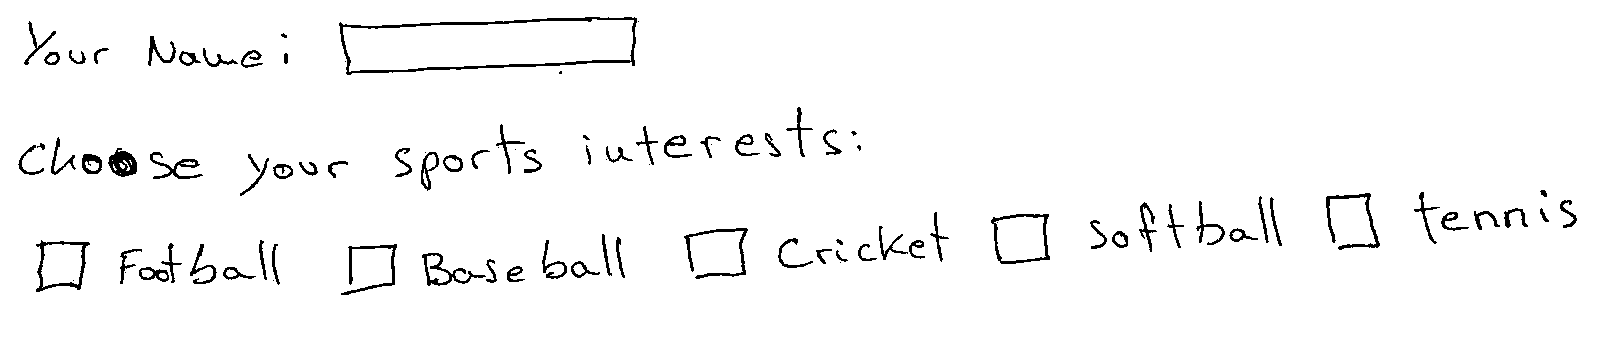Check Box: (988, 193, 1284, 265), (337, 230, 629, 297), (680, 212, 951, 281), (1321, 185, 1580, 253), (31, 232, 284, 299)
Textbox: (335, 10, 643, 77)
